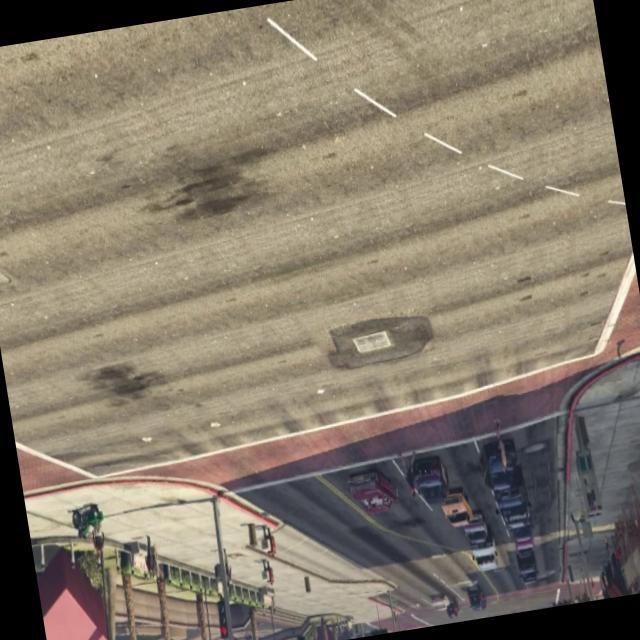Red-Signal: (201, 579, 237, 640), (360, 608, 398, 636), (281, 613, 317, 640)
